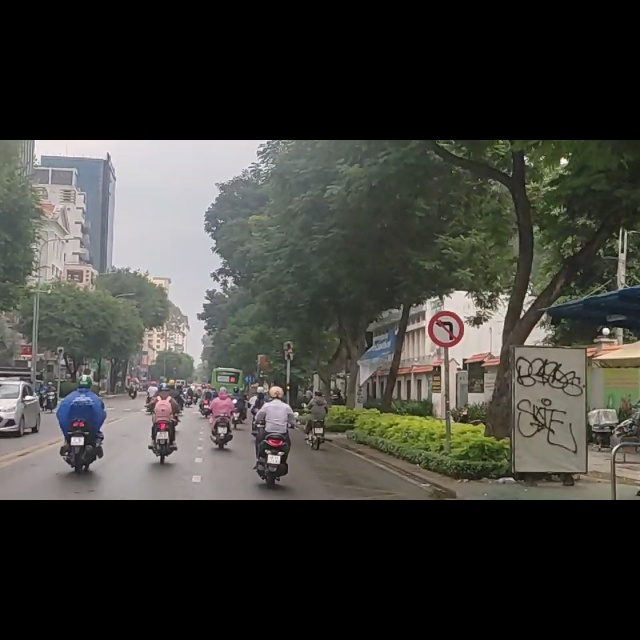bien_hieu_lenh: (428, 305, 463, 370)
